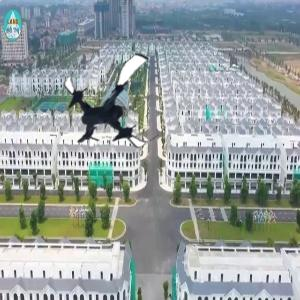drone: (59, 47, 173, 161)
